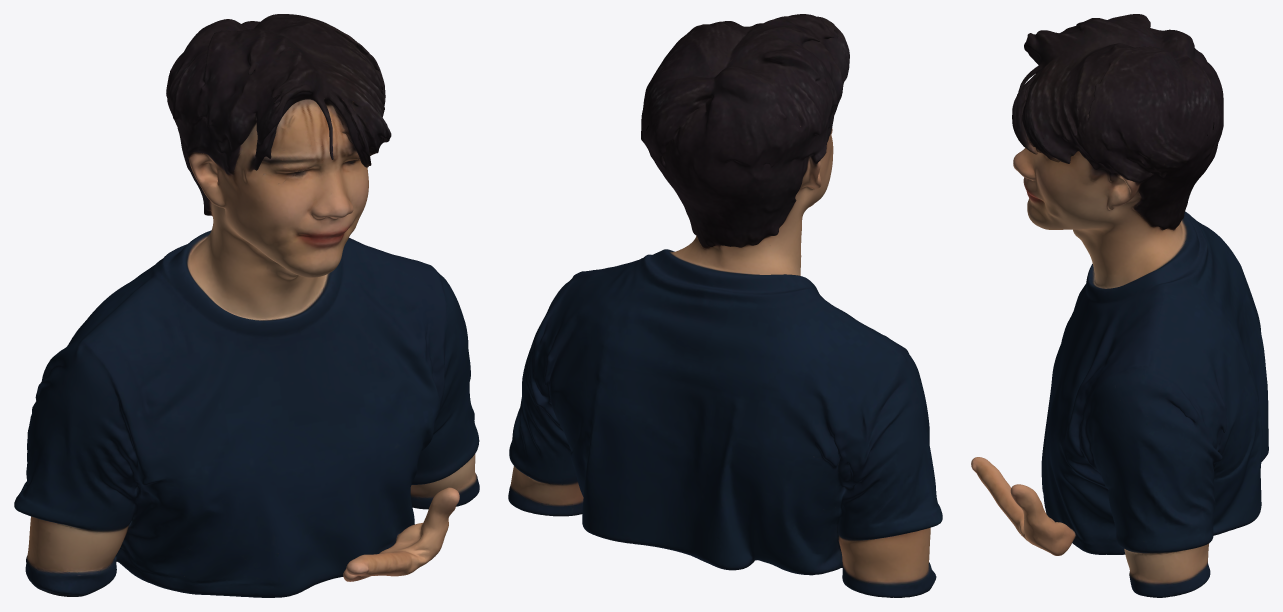
Rendered from central-person.glb.
3 renders of one model, left to right at view 1: azimuth 30°, elevation 25°; view 2: azimuth 150°, elevation 25°; view 3: azimuth 270°, elevation 25°, orthographic. The views are drawn at different scales.
Visible parts, largest first — view 1: world; view 2: world; view 3: world.
Boxes of the visible parts, left/top/right/bottom form: world: left=14, top=14, right=479, bottom=597; world: left=508, top=14, right=942, bottom=597; world: left=971, top=14, right=1268, bottom=597.
Size of the model in its own units: 0.8861 by 0.9975 by 0.5651.
1 material, 1 textured.
